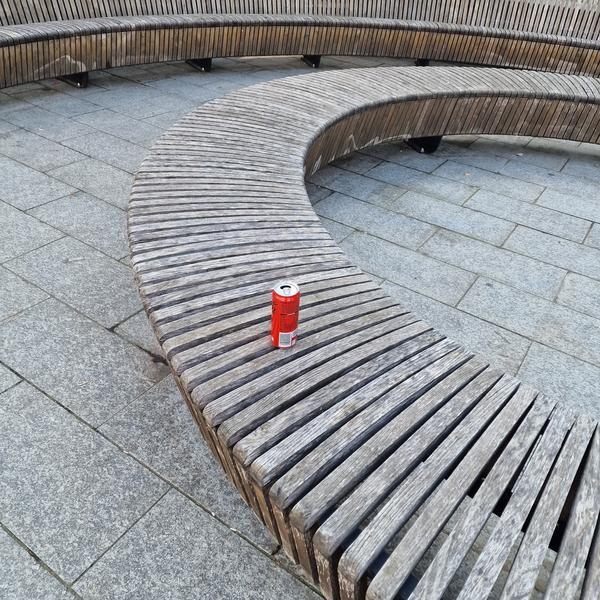can: (271, 281, 299, 349)
